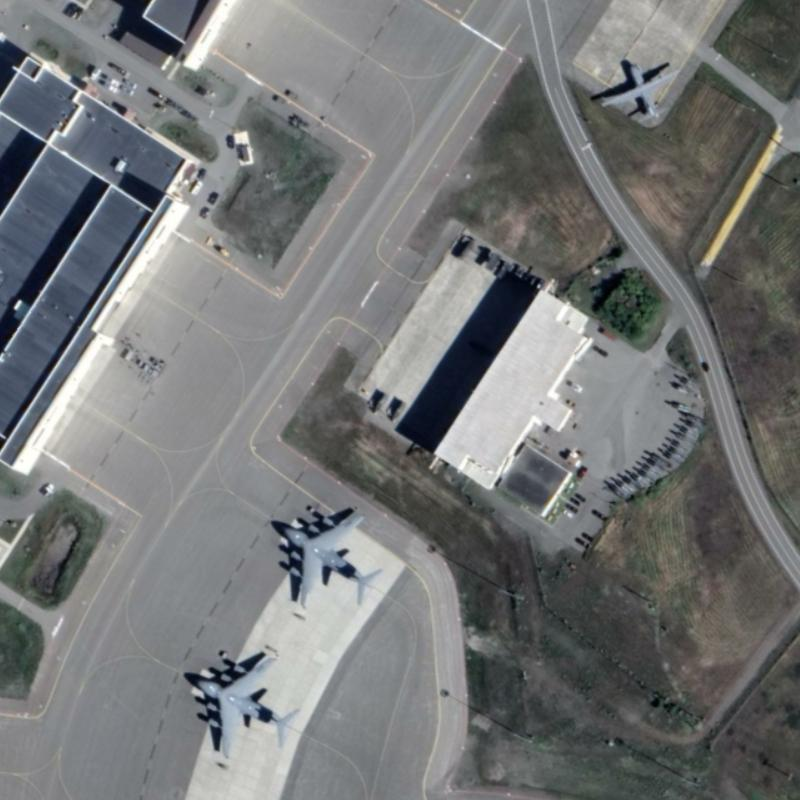A2: (592, 51, 680, 127)
A3: (267, 493, 386, 617), (176, 643, 299, 761)
